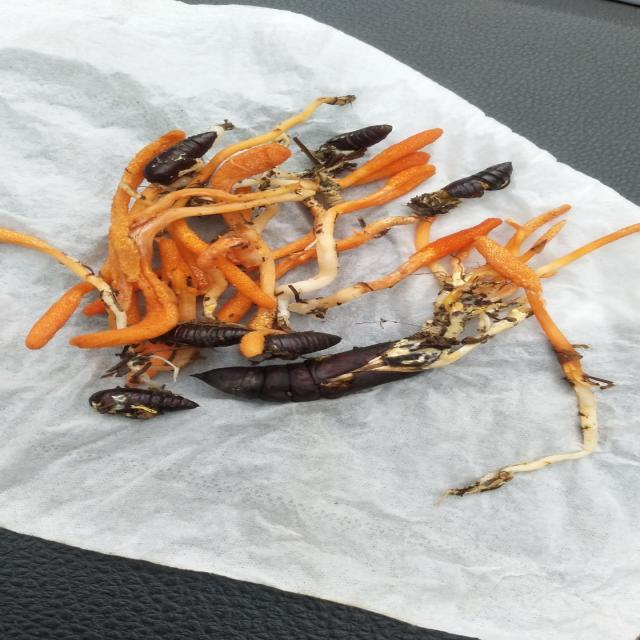Cordyceps militaris: (4, 118, 620, 504)
